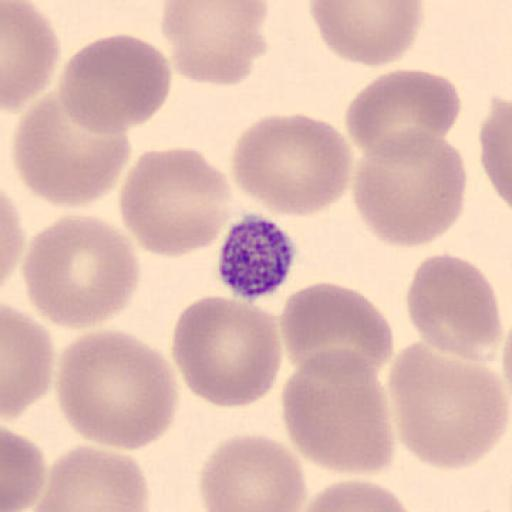Platelet: (216, 211, 300, 302)
RBC: (386, 340, 510, 472), (54, 328, 181, 452), (280, 346, 394, 479), (10, 92, 132, 210), (351, 126, 467, 250), (20, 213, 142, 330), (170, 294, 284, 410), (118, 145, 235, 258), (230, 112, 353, 218), (58, 32, 174, 134), (280, 280, 396, 382), (344, 68, 462, 168), (405, 251, 502, 361), (159, 0, 270, 87), (198, 432, 308, 512), (30, 443, 151, 512), (309, 0, 426, 68), (2, 0, 61, 114), (2, 302, 55, 422), (296, 476, 417, 512), (479, 93, 512, 213), (1, 426, 47, 512), (1, 189, 25, 292)
